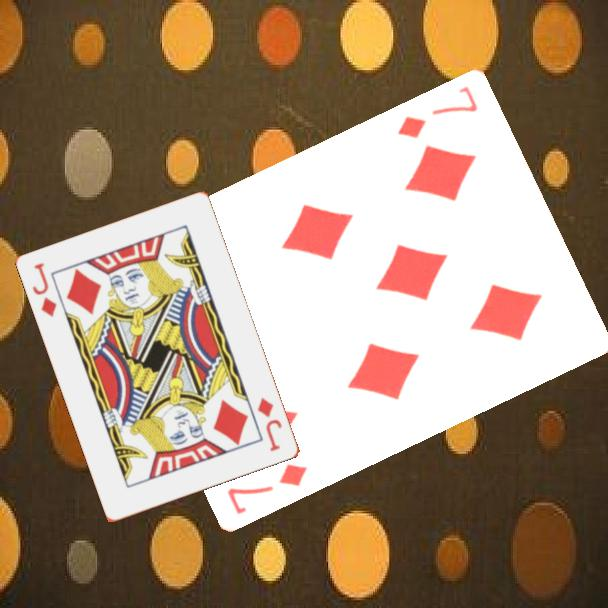d07: (394, 82, 481, 141), (223, 459, 311, 517)
d11: (254, 394, 286, 455), (29, 259, 60, 320)
